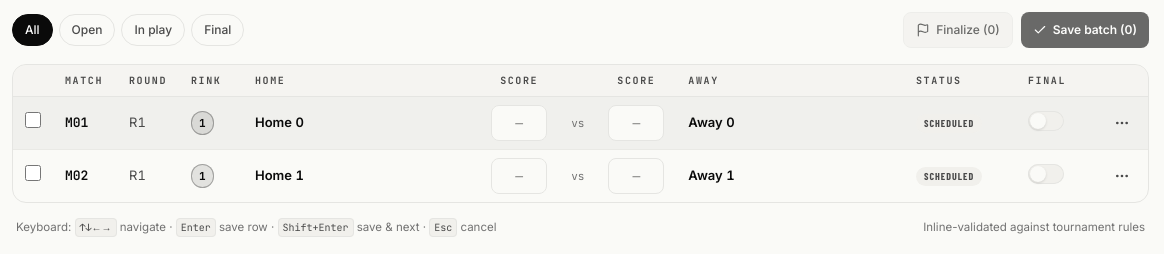
Scenario: <BulkScoringGrid /> — keyboard nav › Shift+Enter selects the row AND advances focus to the next row's home input
Click the 1st field labelled "—" at (519, 123), box [491,105,547,141]
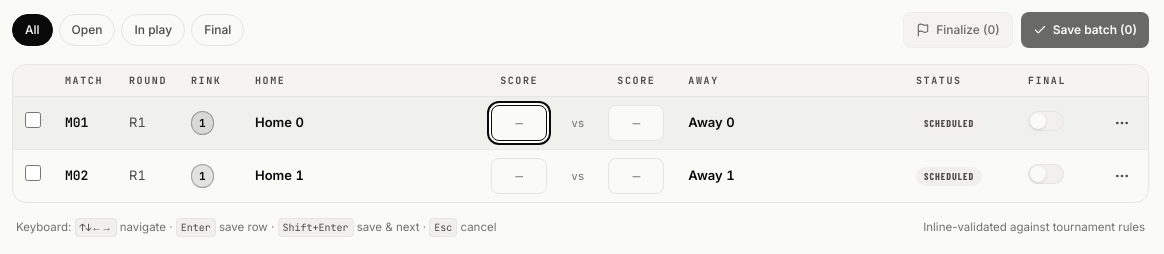
Type keys "{Shift>}{Enter}{/Shift}"
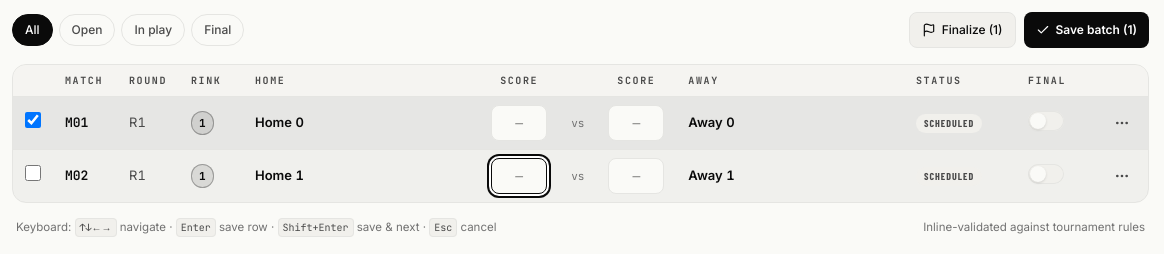
expect the button "Save batch (1)" is enabled: met, box [1024,12,1149,48]
